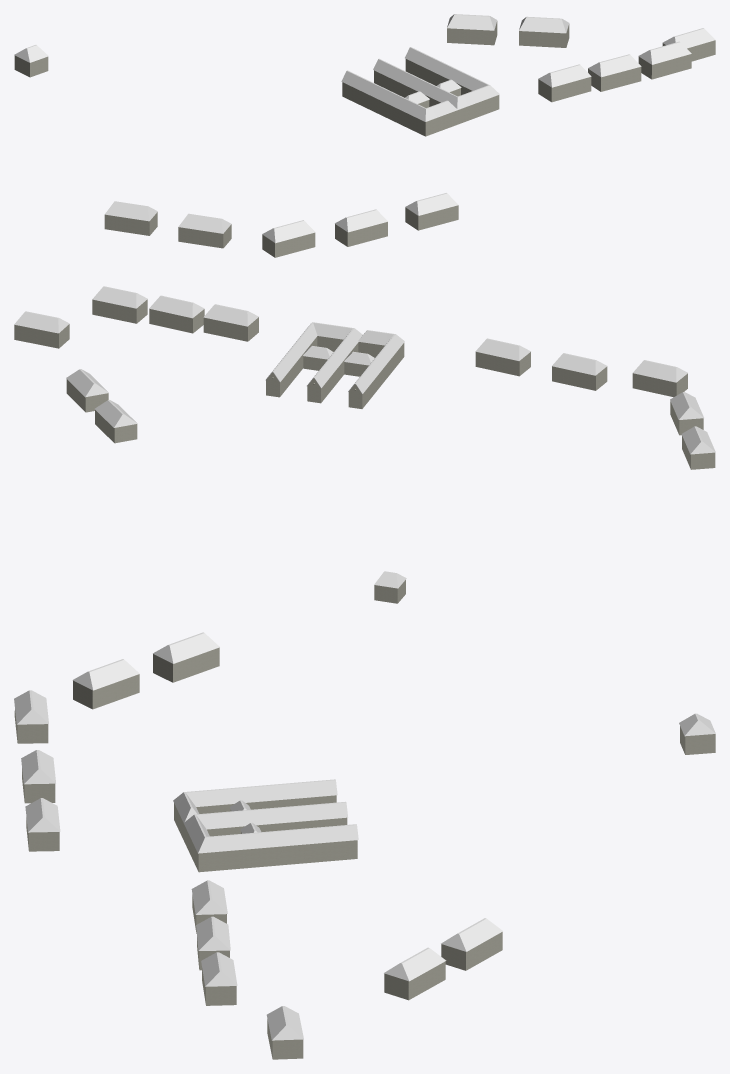
File: ExteriorSigleHouses2.fbx
3 renders of one model, top to bottom at view 1: azimuth 30°, elevation 25°; view 2: azimuth 150°, elevation 25°; view 3: azimuth 270°, elevation 25°, orthographic. The views are drawn at different scales.
Visible parts, largest first — view 1: SingleExteriorWallRoof2; view 2: SingleExteriorWallRoof2; view 3: SingleExteriorWallRoof2.
Part boxes in pixels (box(x1,y1,x2,y2)): SingleExteriorWallRoof2: box(14, 14, 715, 257); SingleExteriorWallRoof2: box(14, 286, 715, 603); SingleExteriorWallRoof2: box(14, 632, 715, 1059).
Size of the model in its own units: 33698 by 3036 by 24929.
